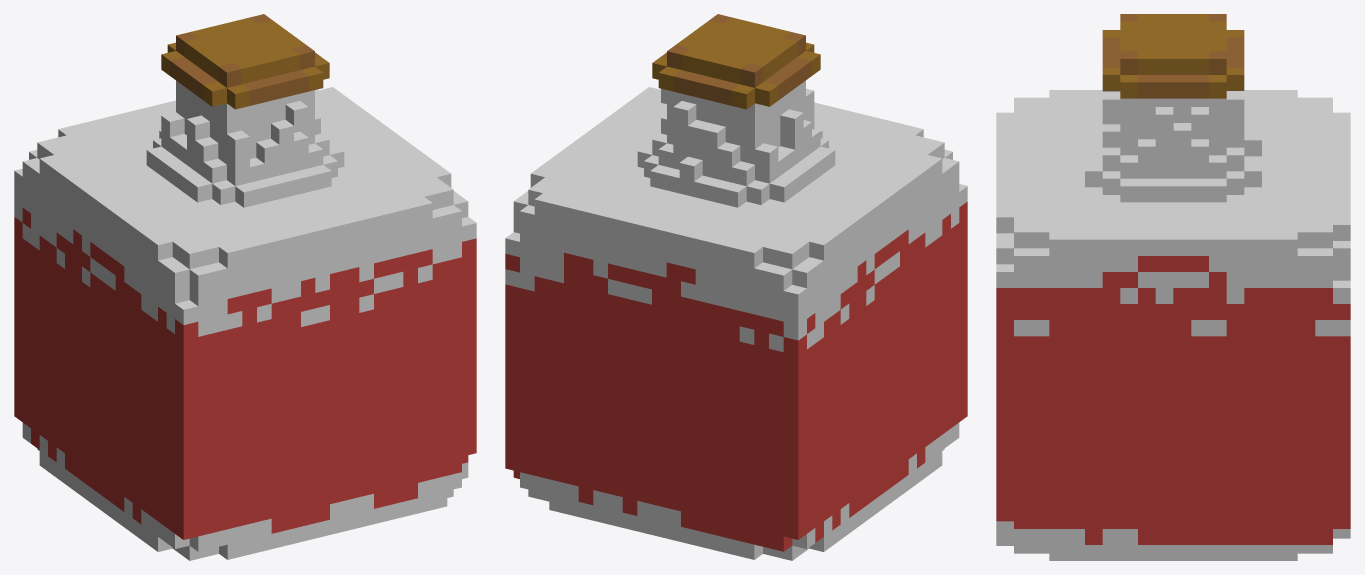
The model's file is hp-large-bottle.obj.
3 views of the same model, side by side, from view 1: azimuth 30°, elevation 25°; view 2: azimuth 150°, elevation 25°; view 3: azimuth 270°, elevation 25° (orthographic). The views are drawn at different scales.
Size of the model in its own units: 2 by 2.8 by 2.
1 material, 1 textured.
